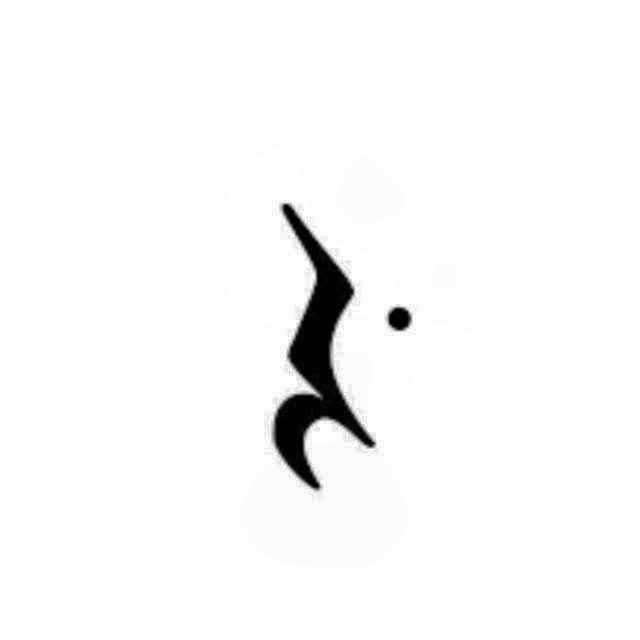Quarter-rest: (240, 178, 436, 500)
